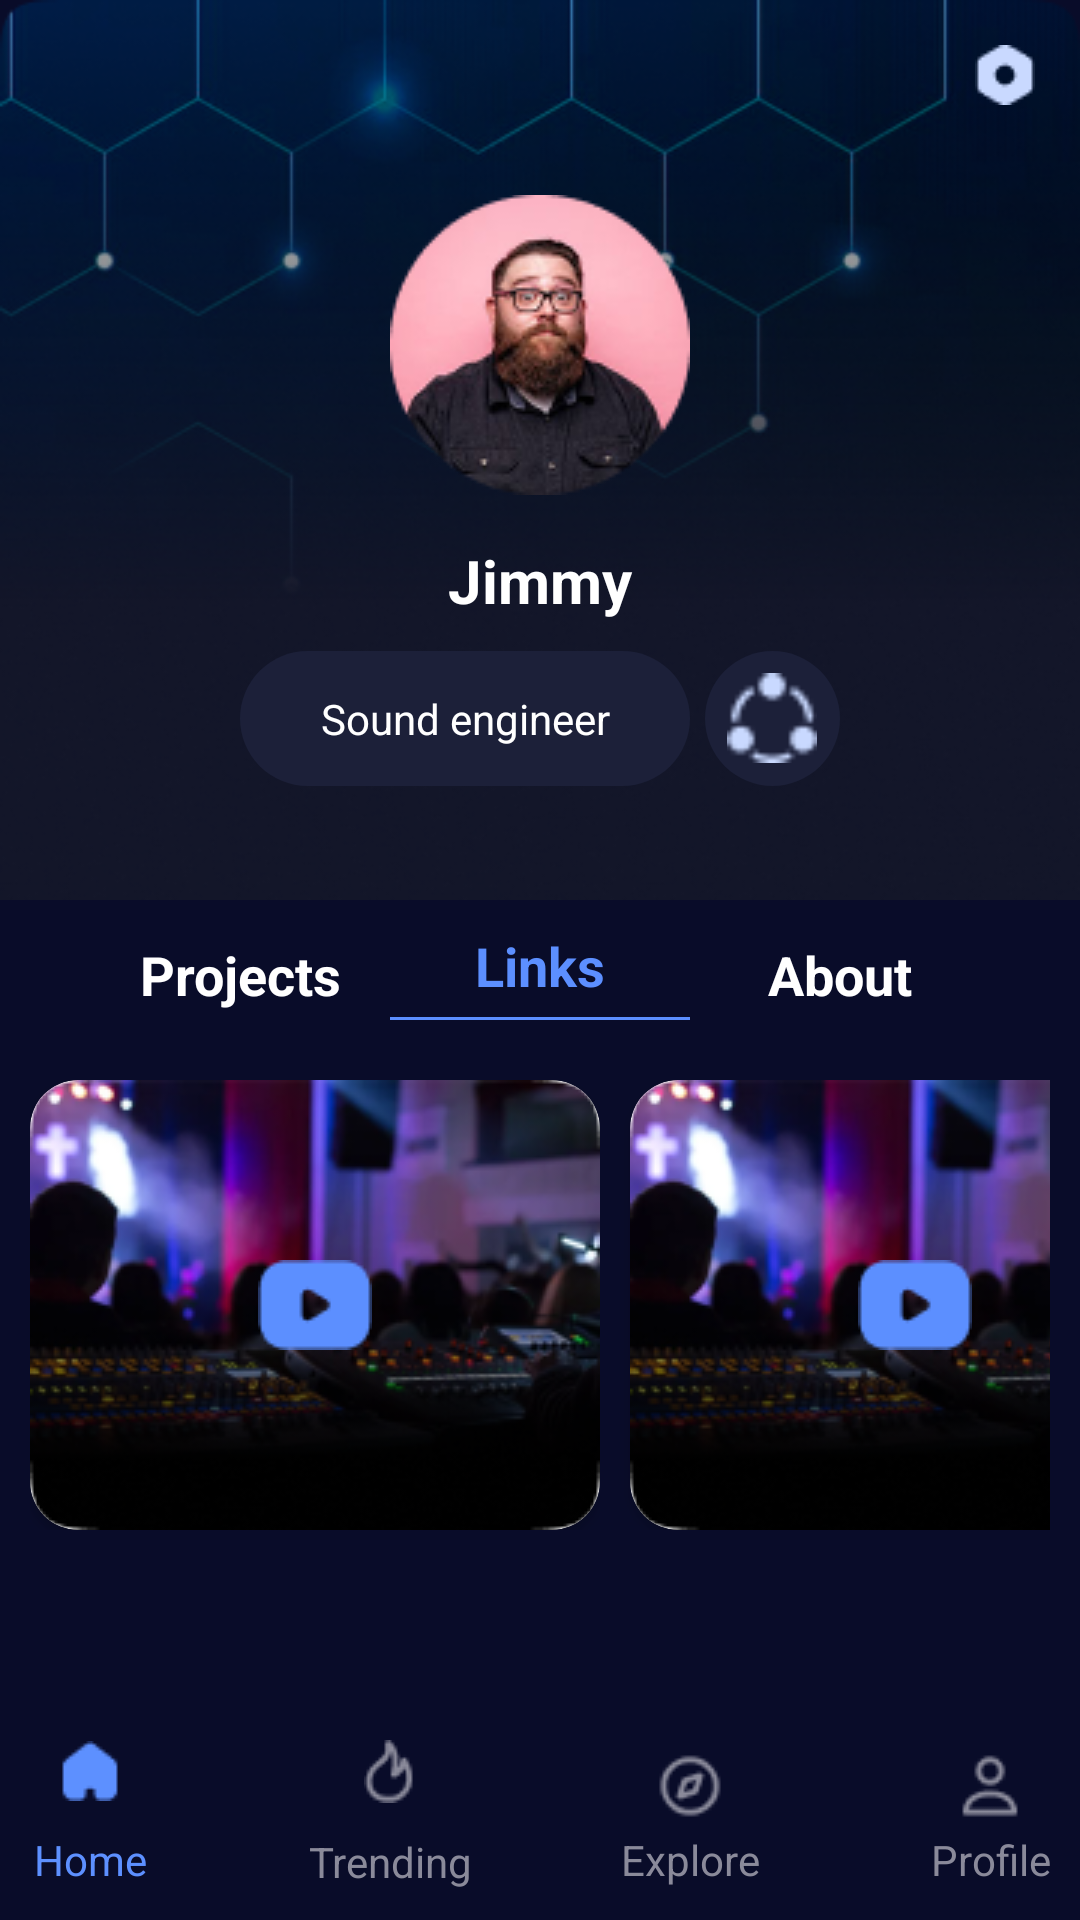

Icons on this 1080px x 1920px Android screen, each with its box as box=[x1, y1, x2, y2]:
settingicon: box=[975, 45, 1035, 105]
shareicon: box=[727, 673, 817, 763]
